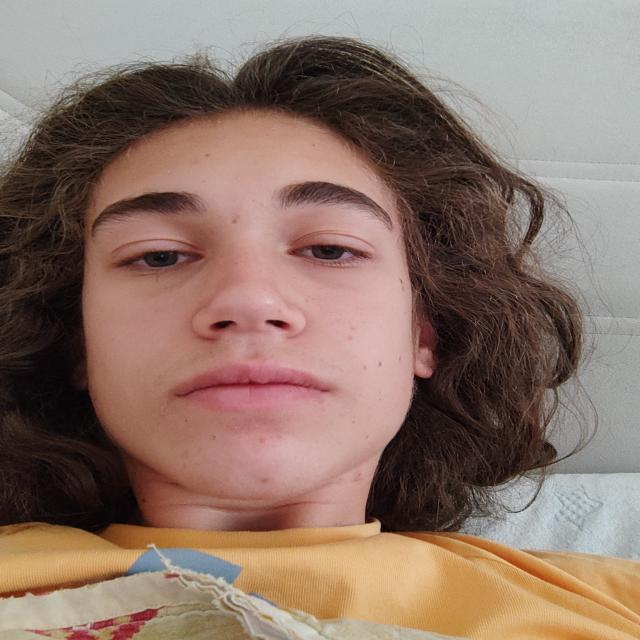Acne: (343, 324, 357, 346), (255, 436, 268, 448), (228, 423, 243, 433), (228, 217, 240, 229), (302, 294, 314, 306), (256, 477, 270, 486), (355, 471, 364, 480)
